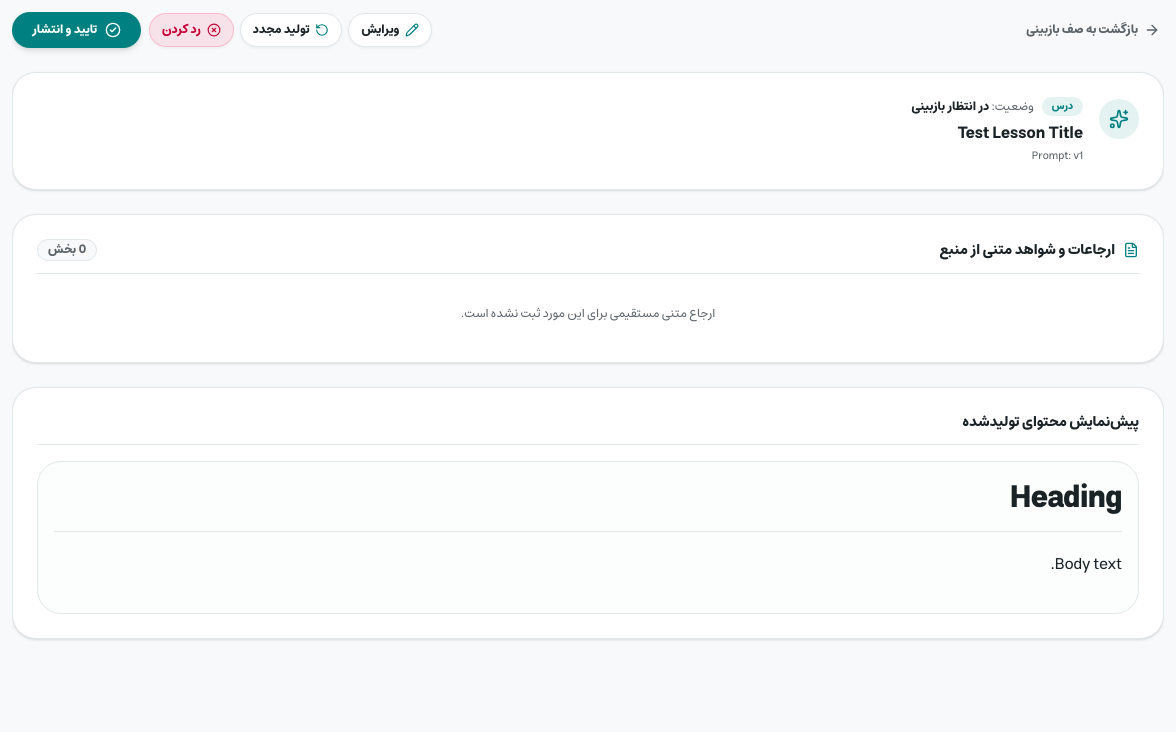
Test case: ContentReviewDetail › shows accept error banner when accept API fails
The image size is (1176, 732).
Expected: the heading "Test Lesson Title" is shown, [958,119,1083,147]
Click the button "تایید و انتشار": (77, 30) [12,12,141,48]
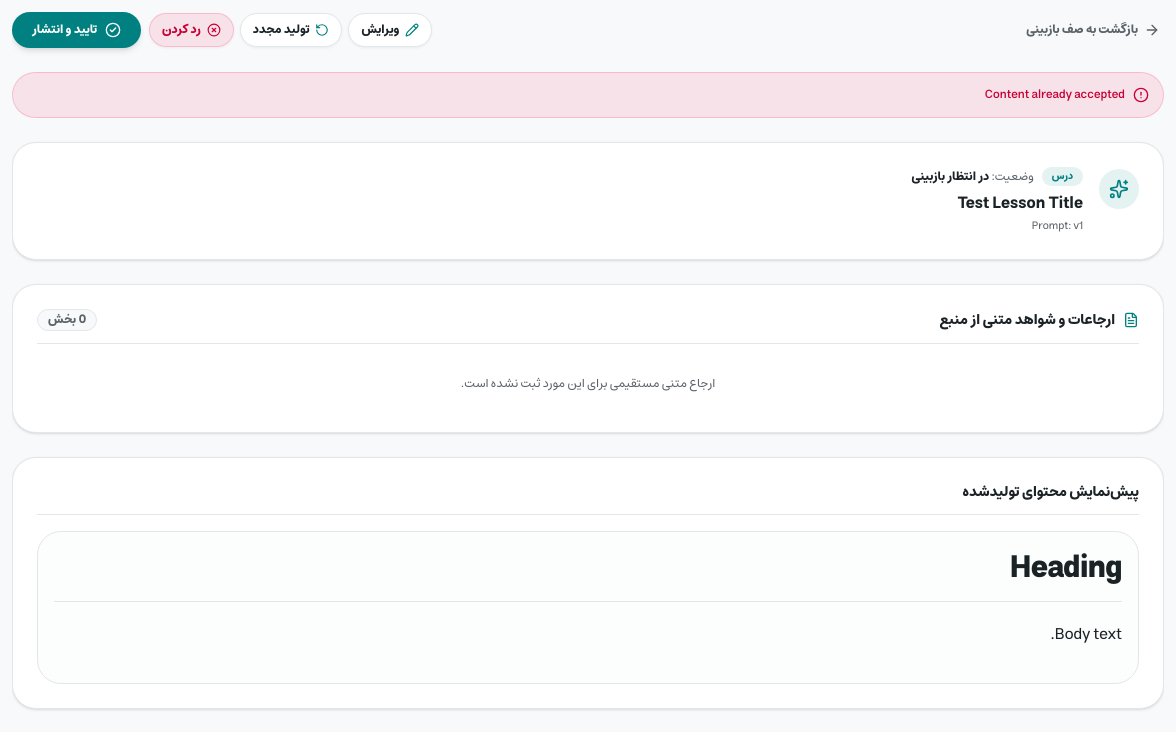
Expected: the text "Content already accepted" is shown, [985,87,1125,103]
